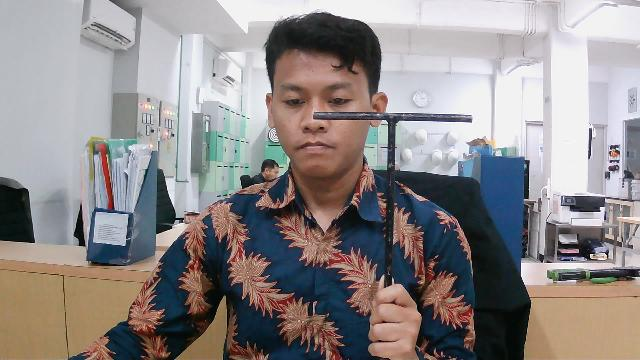kunci_t: (311, 105, 478, 359)
